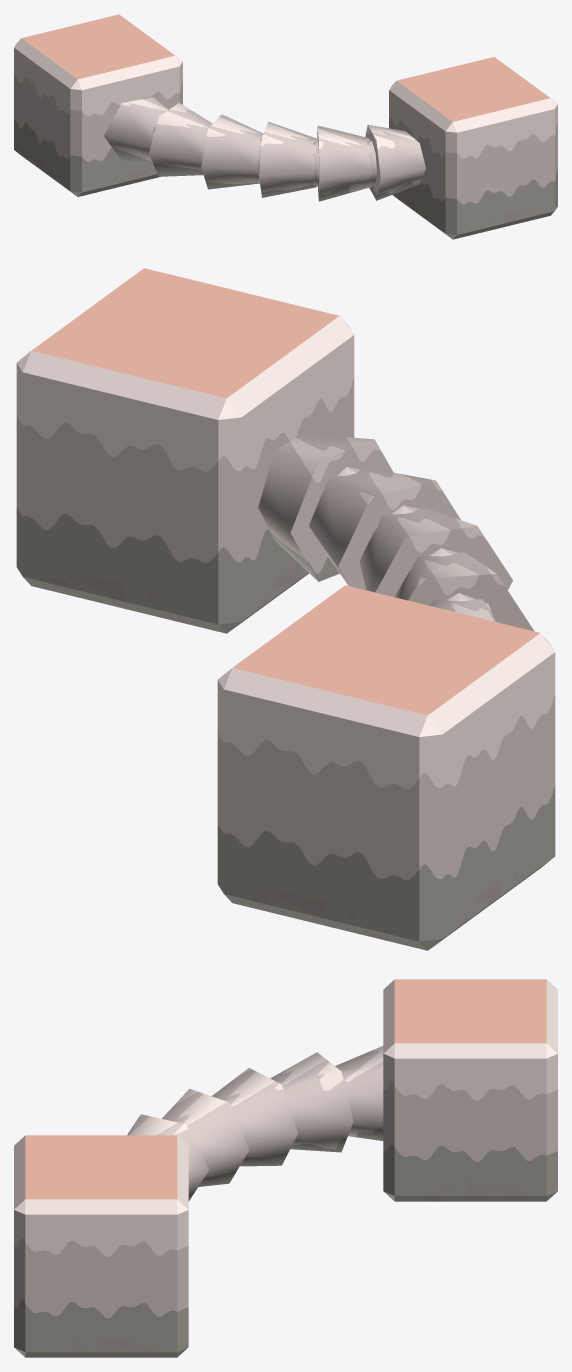
The model's file is R4C_STRUT_ARC_LOD1.glb.
The picture shows the model from 3 angles, top to bottom: view 1: azimuth 30°, elevation 25°; view 2: azimuth 150°, elevation 25°; view 3: azimuth 270°, elevation 25°; orthographic projection. The views are drawn at different scales.
Visible parts, largest first — view 1: R4C_STRUT_ARC_LOD1; view 2: R4C_STRUT_ARC_LOD1; view 3: R4C_STRUT_ARC_LOD1.
Part boxes in pixels (x1,y1,x2,y2): R4C_STRUT_ARC_LOD1: (14, 14, 557, 239); R4C_STRUT_ARC_LOD1: (16, 268, 555, 950); R4C_STRUT_ARC_LOD1: (14, 979, 557, 1357).
Bounding box in the file's own units: 1.62 × 0.52 × 1.62.
Materials: 2 (2 with a texture image).
